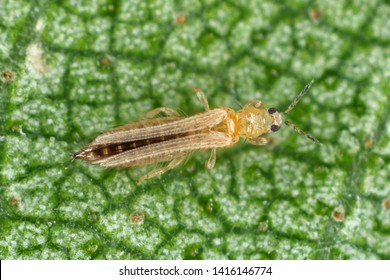Thrips: (86, 90, 306, 179)
